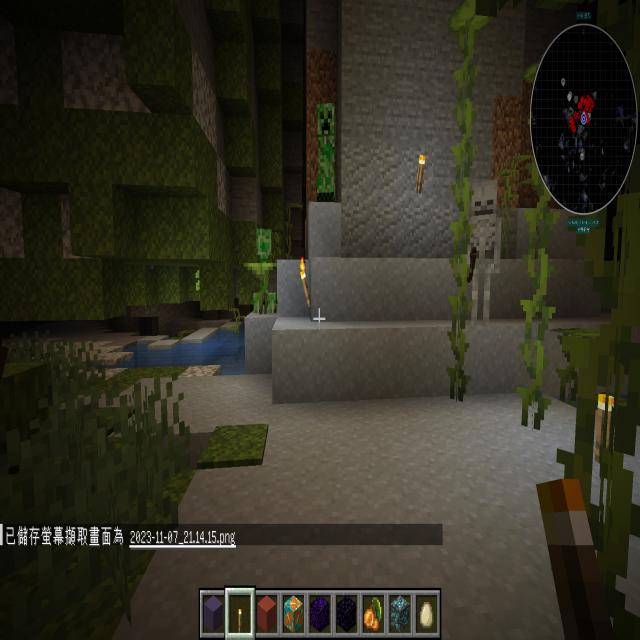Creeper: (313, 97, 341, 211), (250, 222, 279, 321)
Skeleton: (456, 168, 510, 326)
